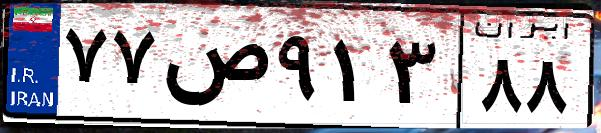1: (330, 28, 385, 110)
3: (385, 28, 445, 110)
7: (57, 26, 110, 100), (110, 28, 158, 98)
8: (475, 38, 525, 113), (525, 38, 570, 115)
9: (270, 28, 330, 110)
ص: (158, 20, 270, 120)
